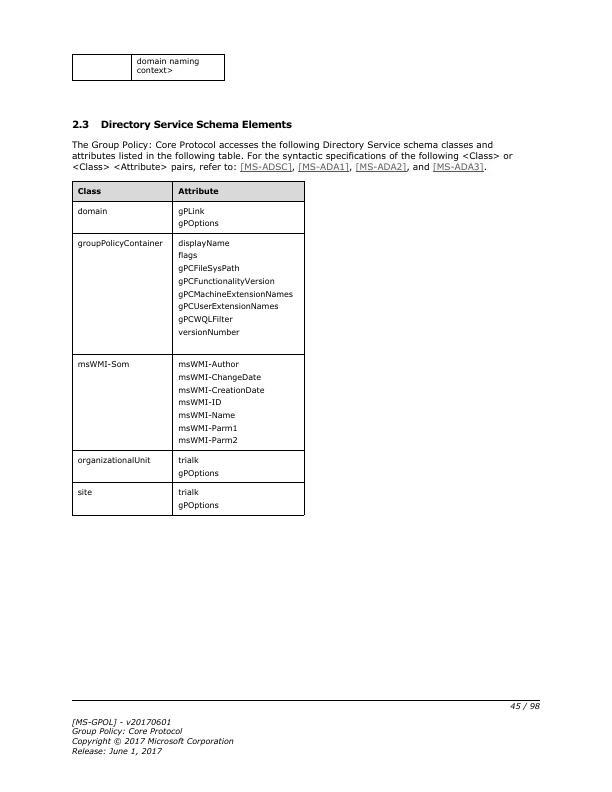table: (73, 181, 306, 517), (73, 55, 225, 82)
text: (70, 138, 516, 175), (69, 714, 236, 757), (70, 118, 295, 130)
